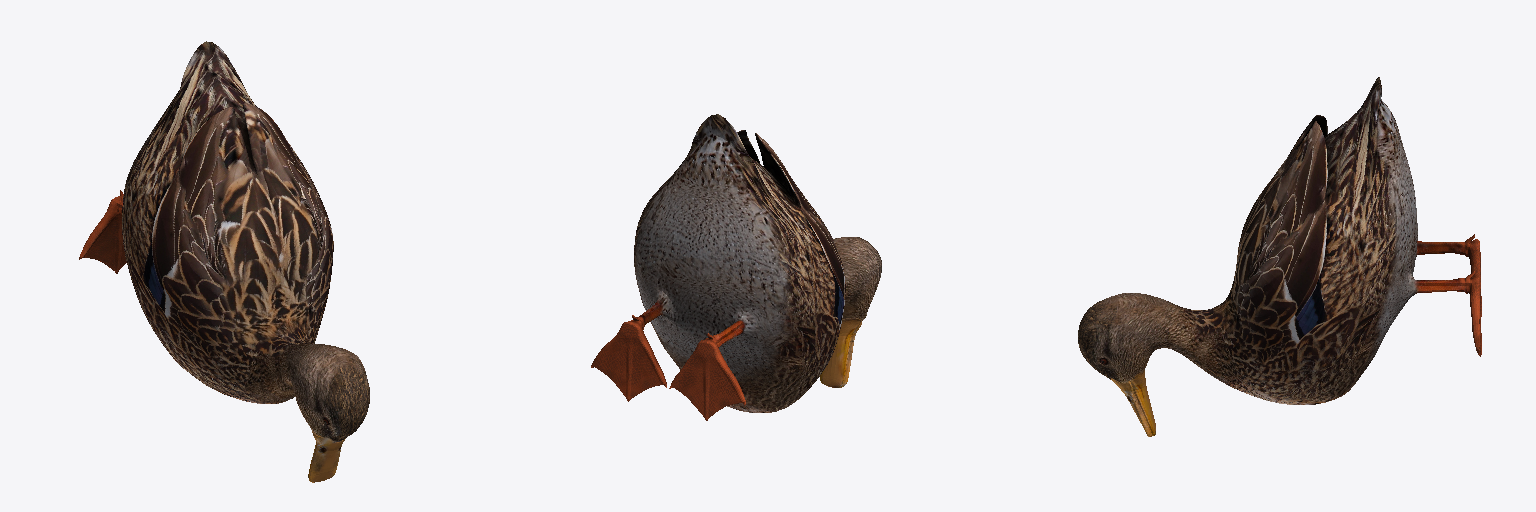
The picture shows the model from 3 angles: view 1: azimuth 30°, elevation 25°; view 2: azimuth 150°, elevation 25°; view 3: azimuth 270°, elevation 25°; orthographic projection.
Parts seen in each view (by area): view 1: 12249_Bird_v1; view 2: 12249_Bird_v1; view 3: 12249_Bird_v1.
Part boxes in pixels (bbox=[...]): 12249_Bird_v1: bbox=[79, 41, 369, 482]; 12249_Bird_v1: bbox=[591, 114, 881, 420]; 12249_Bird_v1: bbox=[1078, 77, 1481, 436].
Bounding box in the file's own units: 28.07 × 53.27 × 54.76.
1 materials, 1 textured.